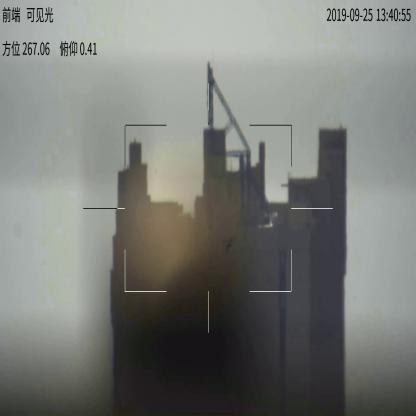uav: (222, 235, 241, 257)
